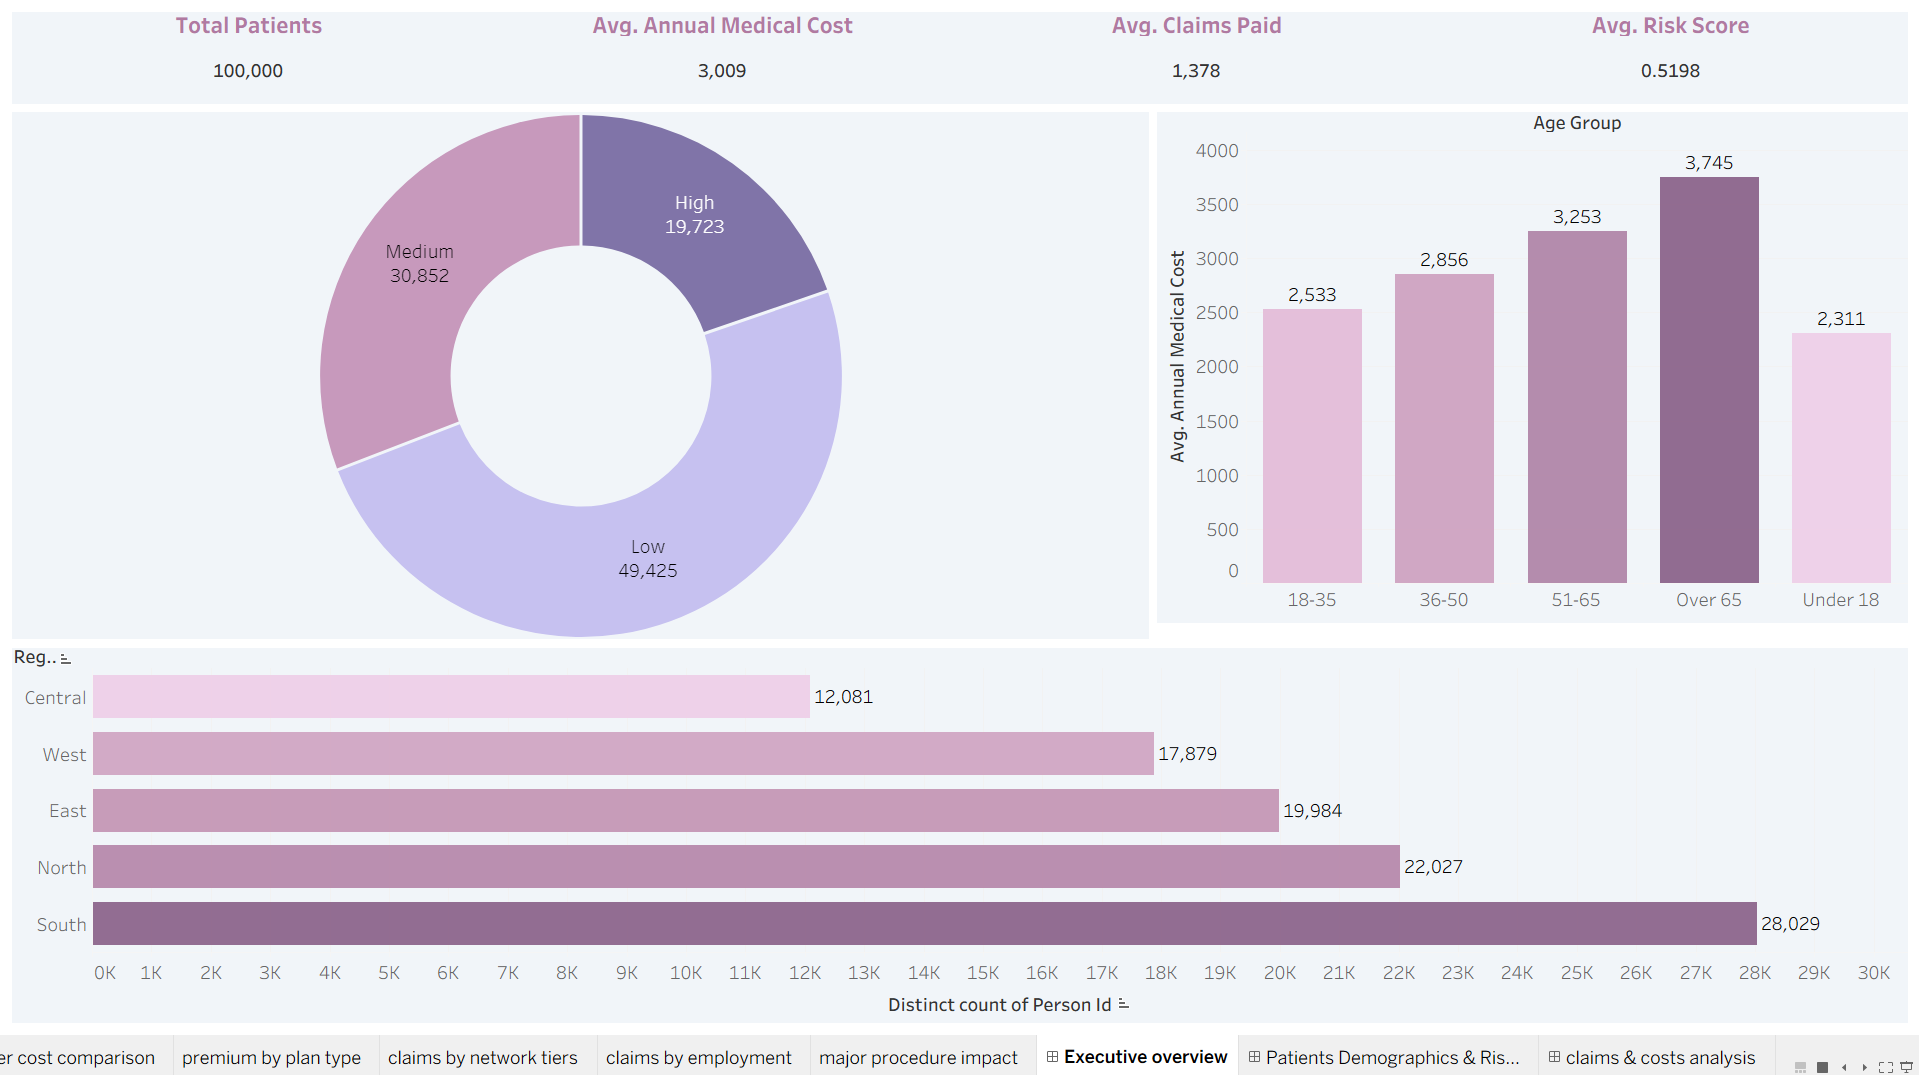

The page's visual inventory and layout, read from the dashboard file:
{"tool":"tableau","page":{"name":"Executive overview","canvas":[1000,1000],"units":"permille","ordinal":0},"visuals":[{"type":"worksheet","title":"KPIs","mark":"Text","box":[4.2,7.7,991.7,96.9]},{"type":"worksheet","title":"Risk category distribution","box":[4.2,104.6,596.3,517.3]},{"type":"worksheet","title":"Cost by age group","mark":"Automatic","rows":["annual_medical_cost"],"cols":["Calculation_0591043998871552"],"box":[600.4,104.6,395.4,517.3]},{"type":"worksheet","title":"Patients by region","mark":"Automatic","rows":["region"],"cols":["person_id"],"box":[4.2,621.9,991.7,370.4]}]}

Visuals, with their boxes on the dashboard's canvas, which has no fixed pixel size, in thousandths of its width and height (x1, y1, x2, y2). These are canvas units, not pixel positions in the 1919x1075 screenshot, which may show the page scaled, cropped or inside an application window:
"KPIs" worksheet (Text marks): bbox=(4, 8, 996, 105)
"Risk category distribution" worksheet: bbox=(4, 105, 600, 622)
"Cost by age group" worksheet: bbox=(600, 105, 996, 622)
"Patients by region" worksheet: bbox=(4, 622, 996, 992)
